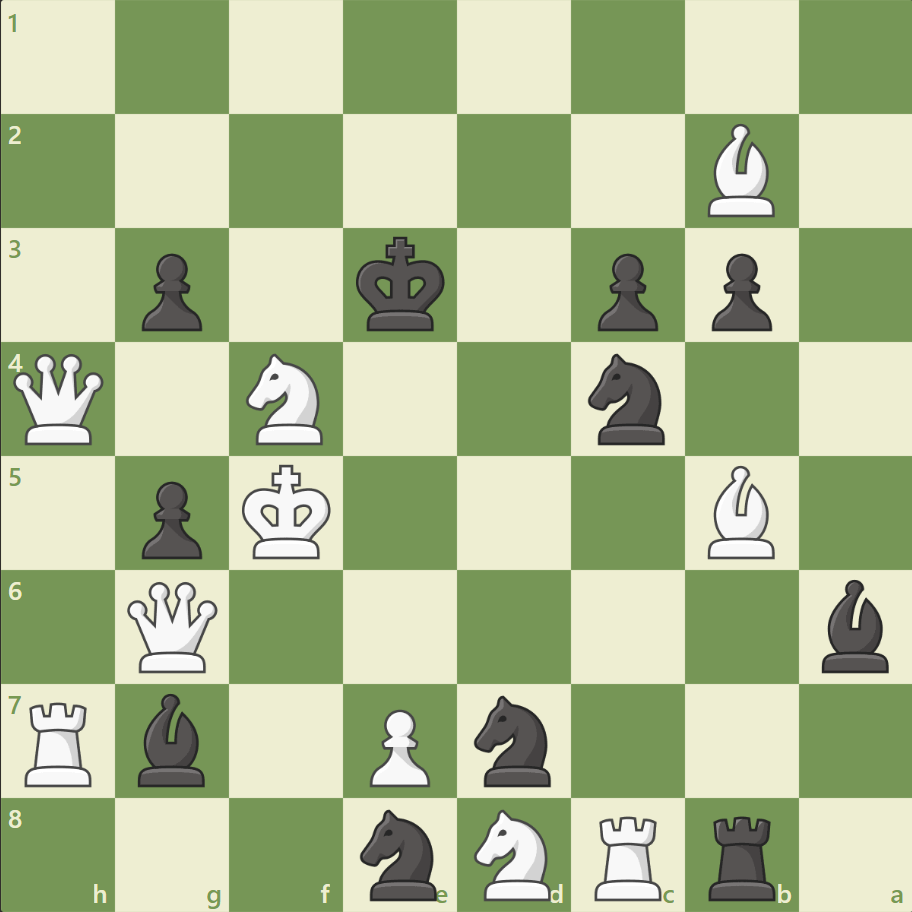B: (698, 460, 782, 563), (698, 120, 782, 222)
K: (238, 458, 338, 566)
N: (465, 802, 562, 904), (238, 348, 335, 450)
P: (361, 700, 435, 791)
Q: (124, 576, 223, 676), (10, 349, 109, 449)
R: (587, 806, 670, 904), (19, 693, 102, 790)
b: (131, 687, 215, 790), (812, 574, 896, 676)
k: (351, 231, 451, 339)
n: (351, 802, 449, 904), (465, 688, 562, 791), (579, 348, 676, 450)
p: (133, 473, 208, 564), (701, 246, 776, 337), (133, 246, 208, 337), (588, 246, 662, 337)
r: (700, 806, 783, 904)
